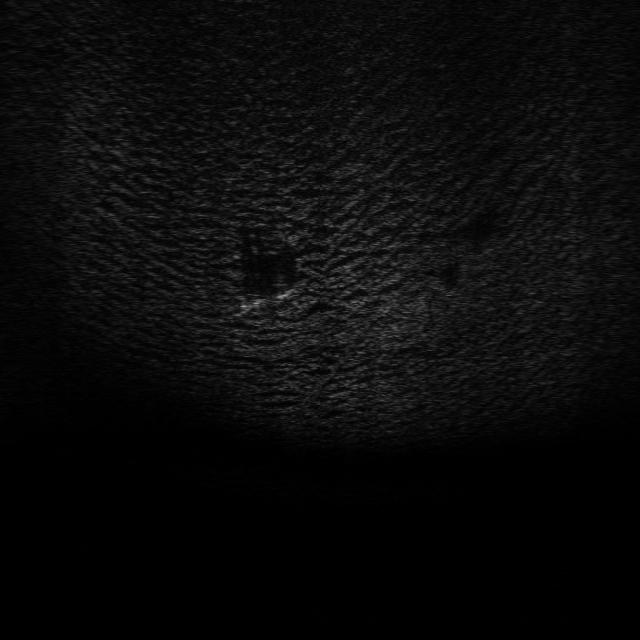plane: (236, 283, 304, 316)
